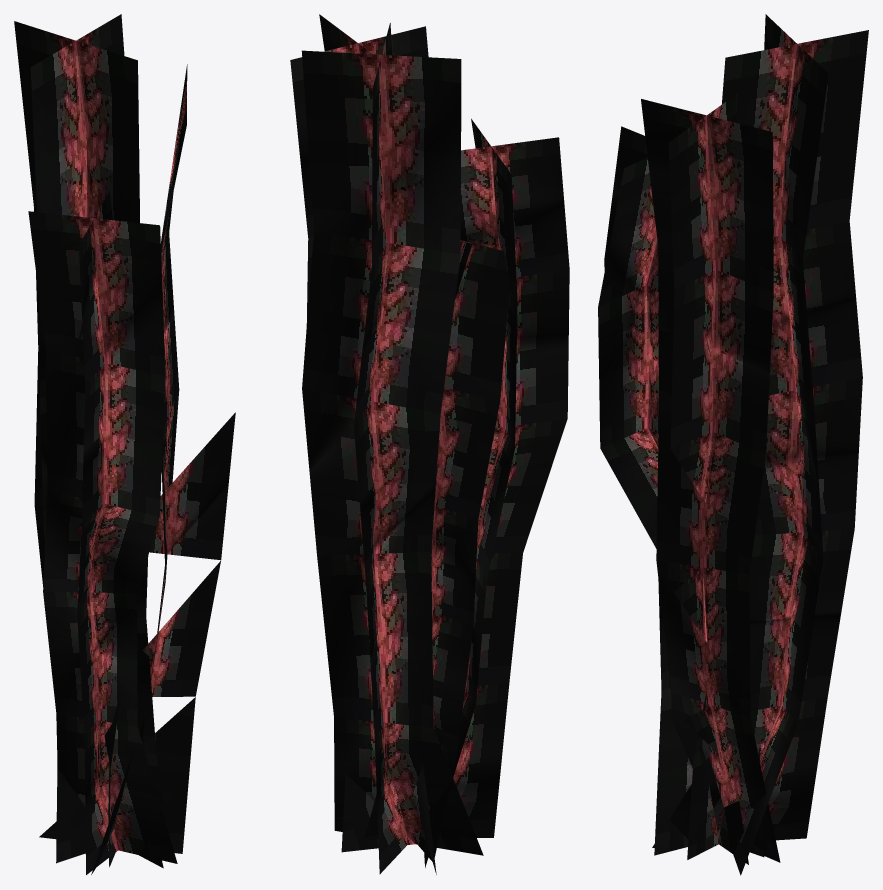
File: KM_SEAWEED.glb
The picture shows the model from 3 angles, left to right: view 1: azimuth 30°, elevation 25°; view 2: azimuth 150°, elevation 25°; view 3: azimuth 270°, elevation 25°; orthographic projection. The views are drawn at different scales.
Parts seen in each view (by area): view 1: Mesh; view 2: Mesh; view 3: Mesh.
Boxes of the visible parts, x1,y1,x2,y2 form: Mesh: [14, 14, 235, 874]; Mesh: [290, 14, 569, 874]; Mesh: [598, 14, 868, 875].
Bounding box in the file's own units: 0.2811 × 1 × 0.3094.
1 material, 1 textured.
